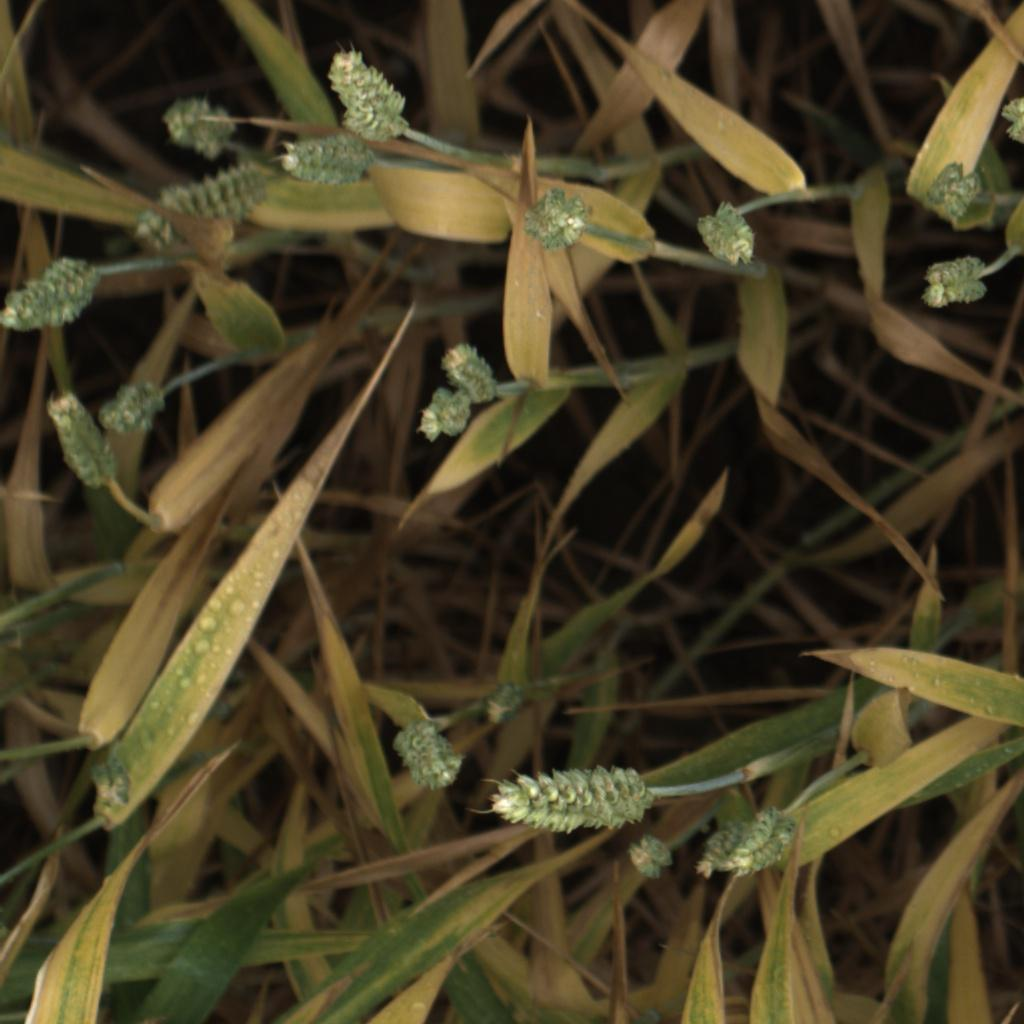0-0: (489, 757, 666, 837), (137, 162, 282, 253), (0, 251, 100, 339), (695, 802, 795, 885), (326, 41, 408, 134), (44, 385, 112, 495), (272, 133, 381, 192), (383, 719, 464, 794), (516, 183, 594, 258), (691, 204, 766, 276), (162, 90, 239, 159), (94, 373, 169, 442), (917, 248, 992, 317), (916, 159, 993, 222), (439, 338, 503, 406), (408, 388, 471, 448), (621, 828, 680, 889), (475, 673, 529, 730), (92, 750, 138, 814), (993, 89, 1024, 157)
